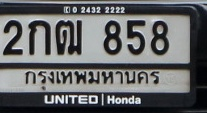txt01: (26, 19, 52, 56)
txt02: (2, 19, 25, 57)
txt13: (54, 18, 84, 55)
